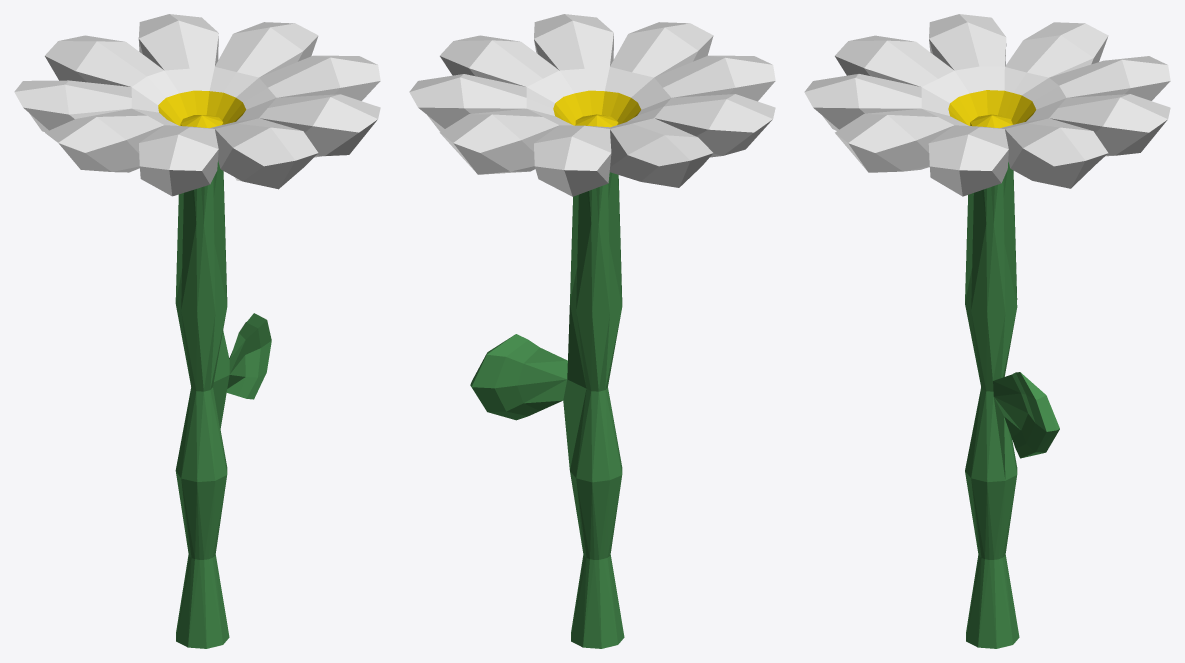
File: bloem.fbx
3 views of the same model, side by side, from view 1: azimuth 30°, elevation 25°; view 2: azimuth 150°, elevation 25°; view 3: azimuth 270°, elevation 25° (orthographic).
Visible parts, largest first — view 1: Circle; view 2: Circle; view 3: Circle.
Part boxes in pixels (x1,y1,x2,y2): Circle: [14, 14, 380, 648]; Circle: [409, 14, 775, 648]; Circle: [804, 14, 1170, 648].
Bounding box in the file's own units: 80.15 × 134 × 79.49.
